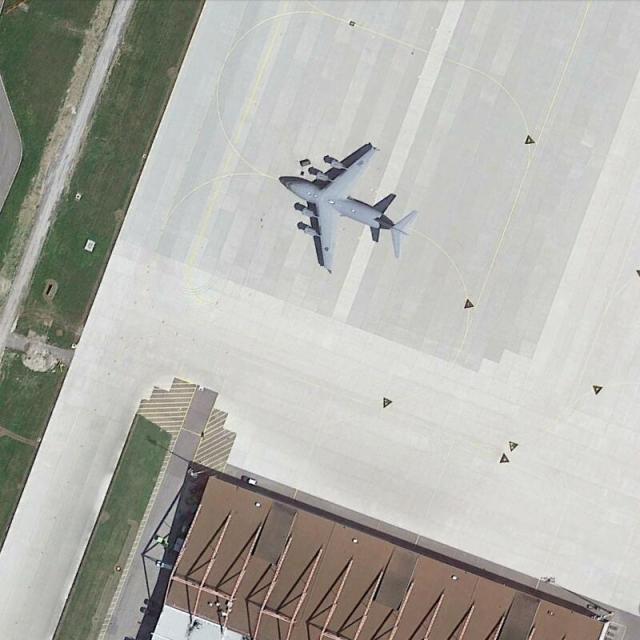fighter jet: (267, 146, 395, 255)
